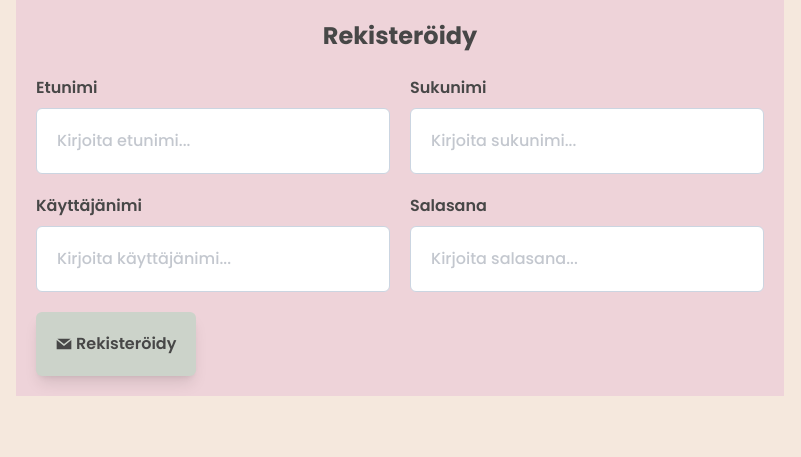
Scenario: UserForm Component › handles successful registration
The image size is (801, 457).
Type "Test" into the field labelled "Etunimi".
click(213, 141); type("Test")  # box [36, 108, 390, 174]
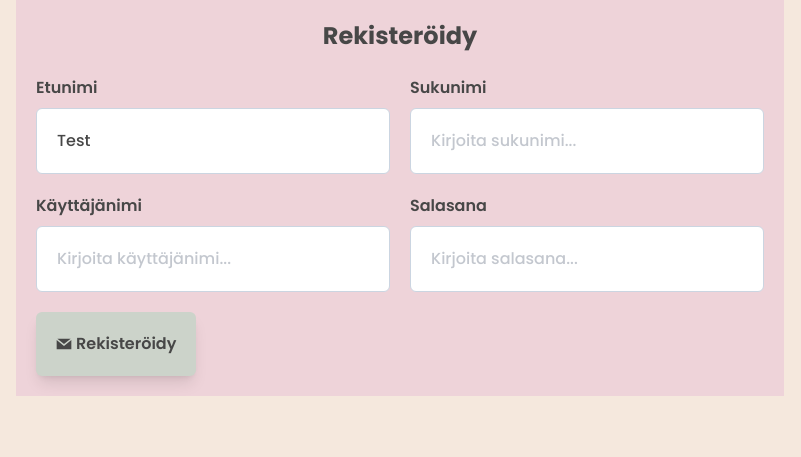
Type "User" into the field labelled "Sukunimi".
click(587, 141); type("User")  # box [410, 108, 764, 174]
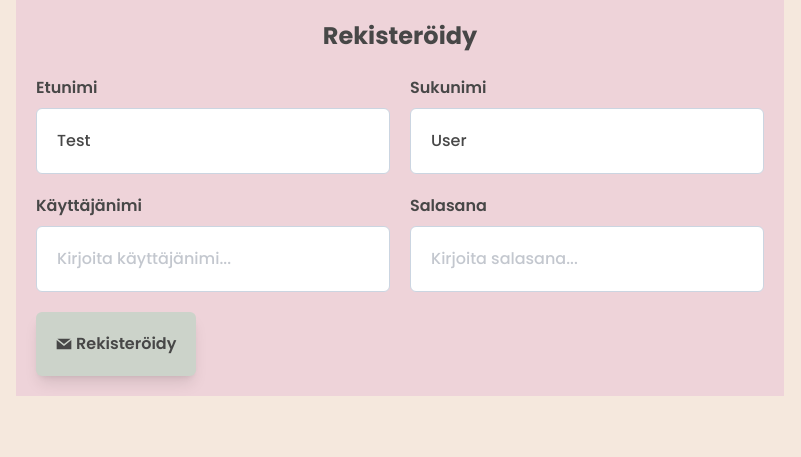
Type "testuser" into the field labelled "Käyttäjänimi".
click(213, 259); type("testuser")  # box [36, 226, 390, 292]
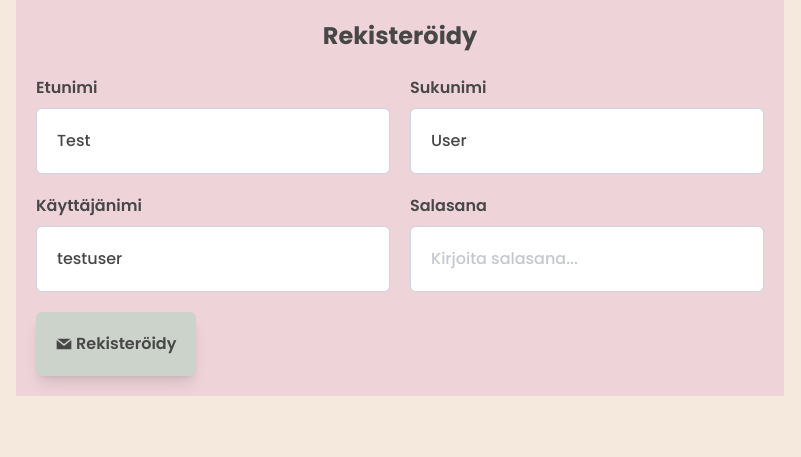
Type "Password123!" into the password field labelled "Salasana".
click(587, 259); type("Password123!")  # box [410, 226, 764, 292]
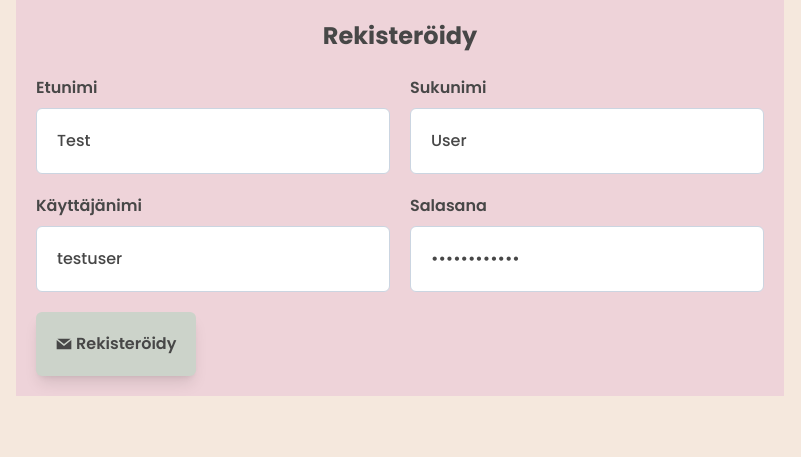
Click the button "Rekisteröidy".
click(116, 344)  # box [36, 312, 196, 376]
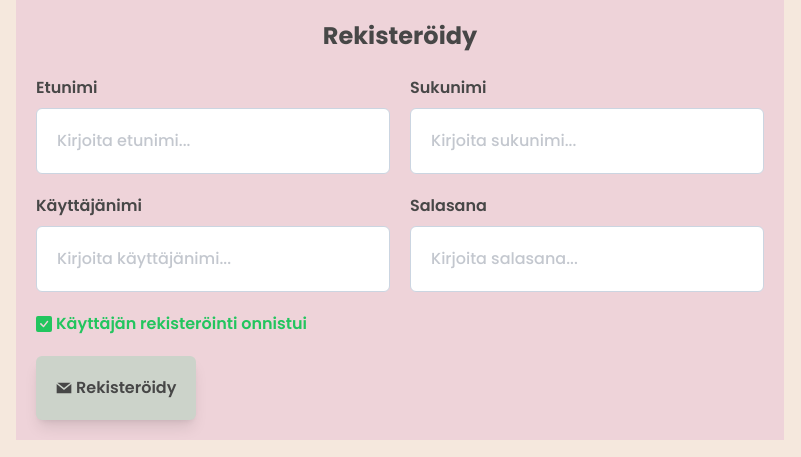
Now the text "Käyttäjän rekisteröinti onnistui" is shown, box [36, 312, 307, 335]
